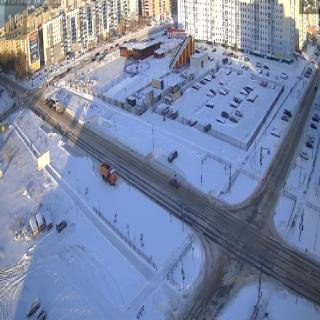large-vehicle: (100, 161, 119, 185), (55, 102, 64, 116), (50, 97, 59, 108)
small-vehicle: (25, 299, 40, 316), (32, 307, 45, 320), (56, 219, 66, 234), (170, 178, 181, 189), (271, 129, 281, 140), (228, 114, 238, 125), (168, 151, 177, 163), (300, 151, 310, 161), (282, 108, 292, 118), (160, 106, 169, 116), (311, 114, 320, 123), (205, 90, 214, 99), (205, 100, 214, 109), (190, 82, 200, 90), (306, 138, 313, 149), (221, 109, 229, 118), (307, 130, 314, 140), (204, 123, 211, 133), (280, 115, 288, 122), (230, 101, 238, 108), (310, 122, 317, 129), (233, 97, 240, 104), (219, 90, 226, 96)
